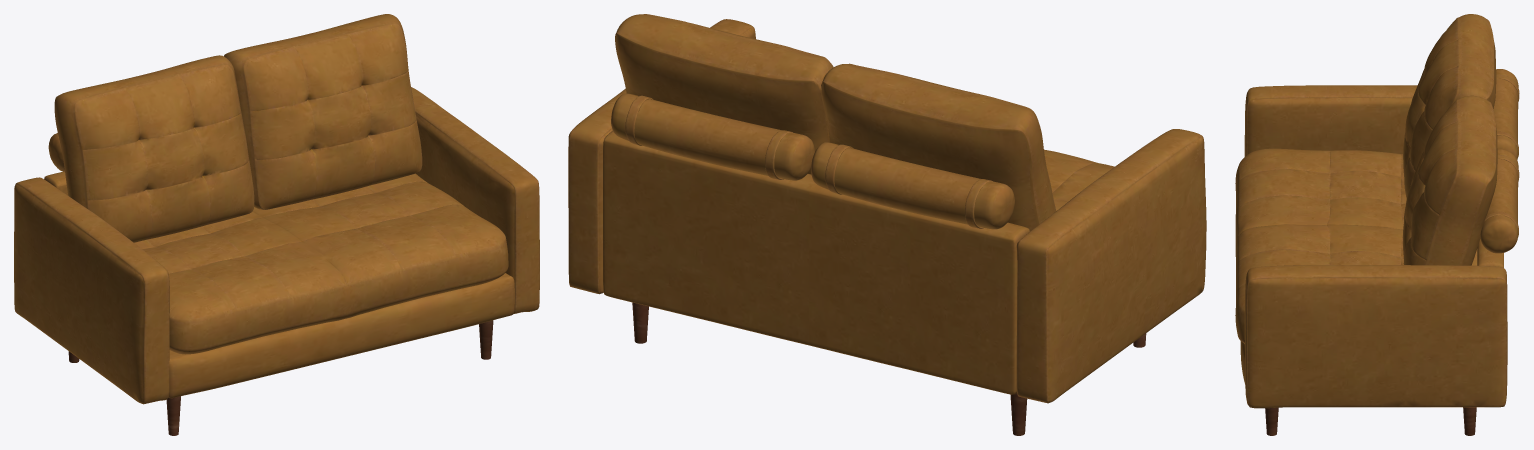
The model's file is B07P6JVMJL.glb.
3 renders of one model, left to right at view 1: azimuth 30°, elevation 25°; view 2: azimuth 150°, elevation 25°; view 3: azimuth 270°, elevation 25°, orthographic. The views are drawn at different scales.
Parts seen in each view (by area): view 1: RootNode; view 2: RootNode; view 3: RootNode.
Boxes of the visible parts, x1,y1,x2,y2 form: RootNode: (14, 14, 539, 435); RootNode: (568, 14, 1206, 435); RootNode: (1235, 14, 1519, 435).
Bounding box in the file's own units: 1.43 × 0.8977 × 0.8684.
Materials: 1 (1 with a texture image).
